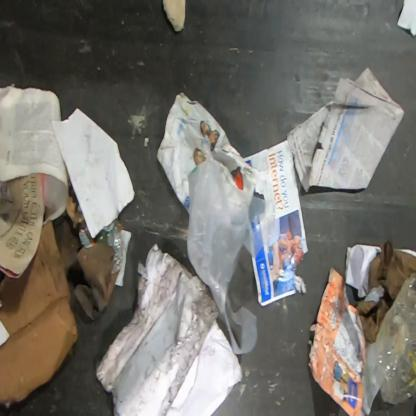cardboard: (95, 242, 243, 415), (0, 218, 82, 407)
rigid_plastic: (102, 218, 124, 274), (78, 219, 107, 249), (77, 203, 82, 213)
soft_plastic: (187, 159, 276, 355), (360, 272, 415, 415)
